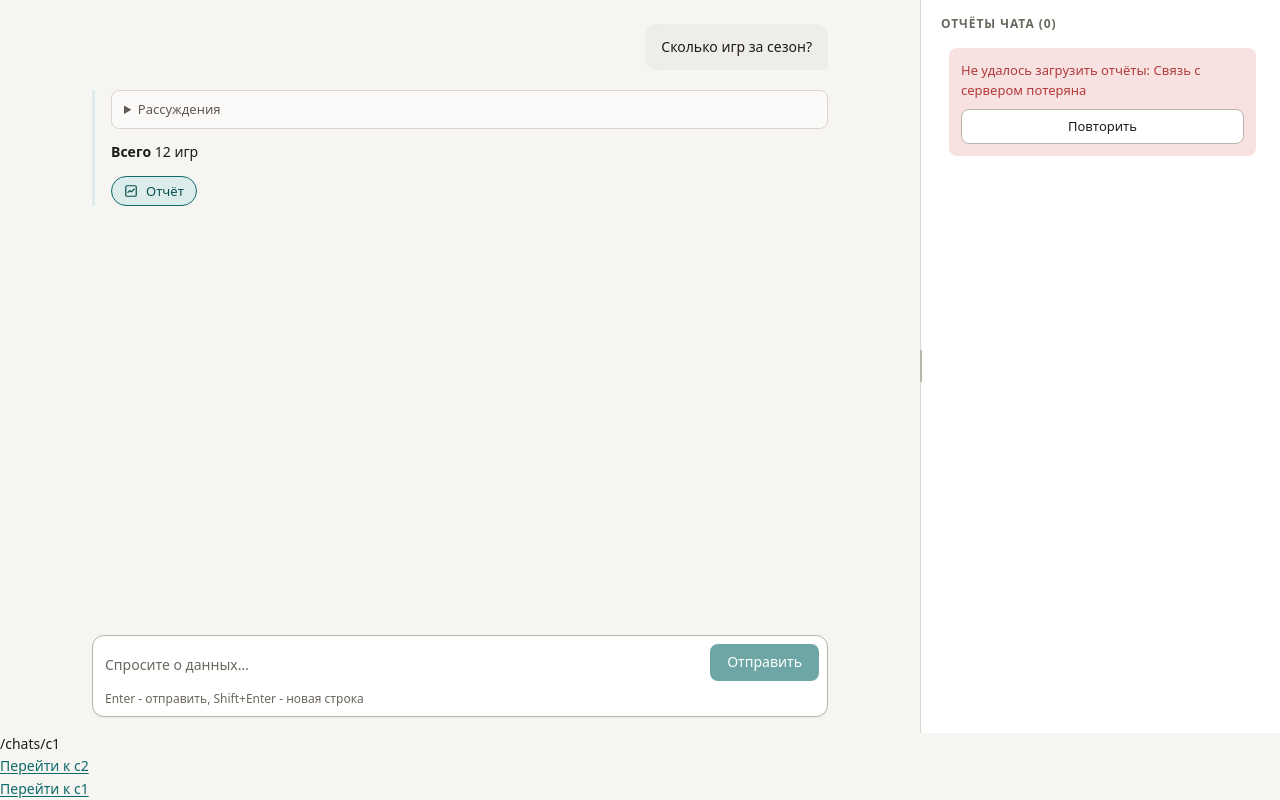
Scenario: ChatView interleavings › ignores a late POST reply after a chat switch and keeps the old chat's entry stored
Type "Вопрос в c1" into the text box named "Сообщение" at (404, 666), box x1=105 y1=646 x2=702 y2=685
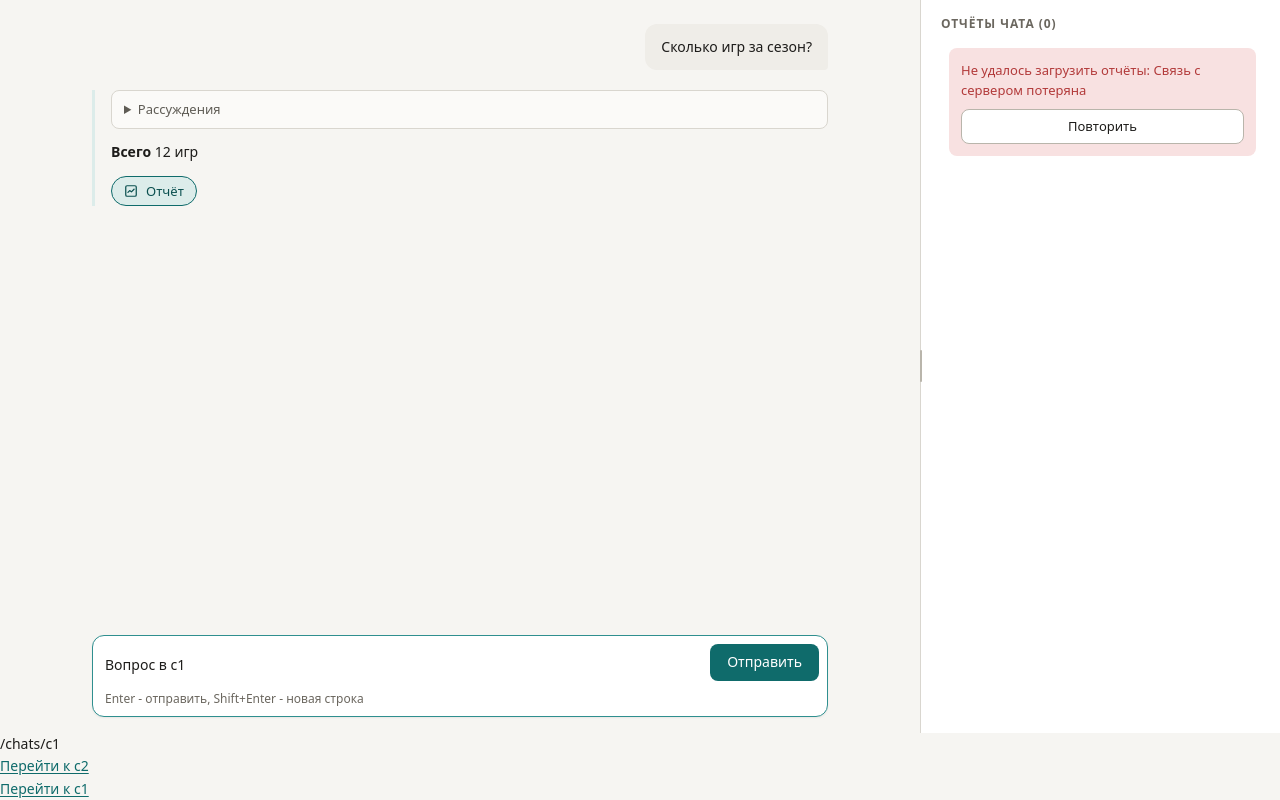
Press Enter
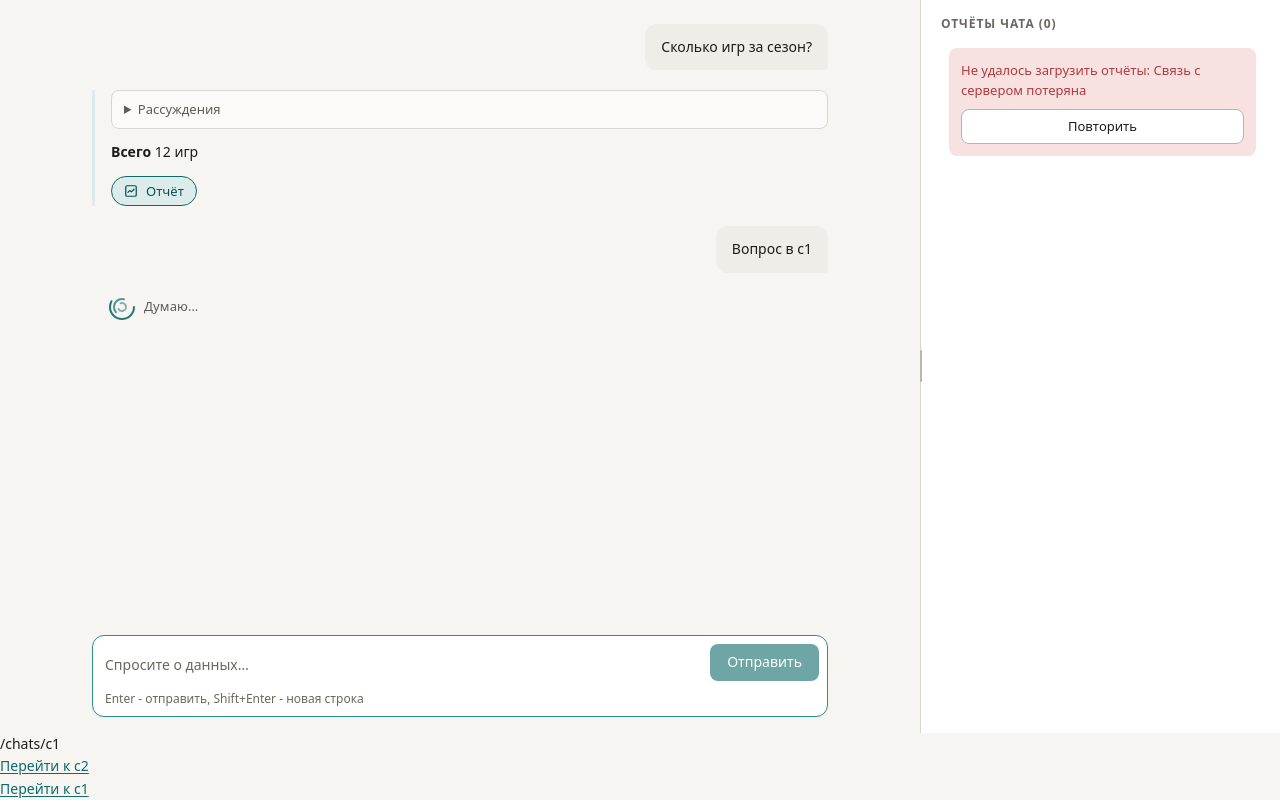
Click the link "Перейти к c2" at (44, 766), box x1=0 y1=756 x2=89 y2=775
Wait 1000 ms
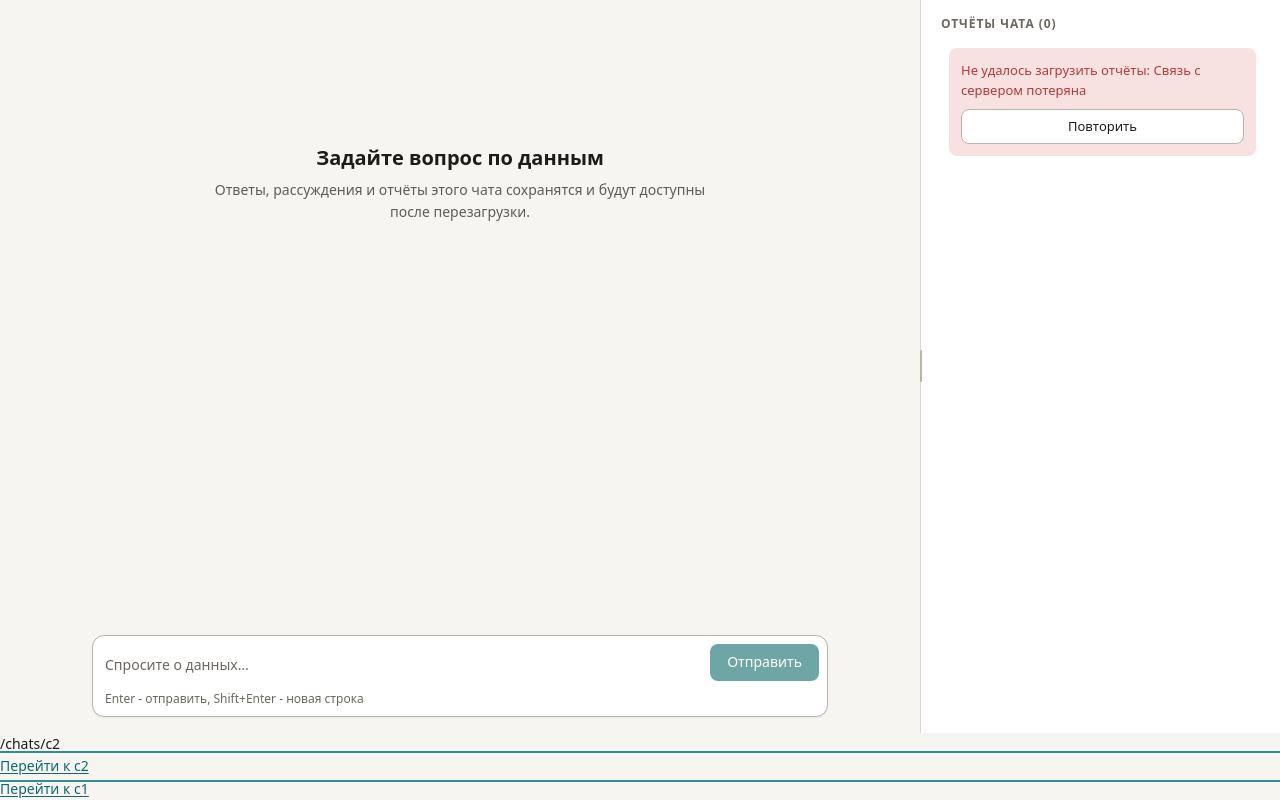
Expected: the text with test id "path" reads "/chats/c2", x1=0 y1=734 x2=60 y2=753
Expected: the text "Вопрос в c1" is gone
Expected: the message "Думаю…" is gone
